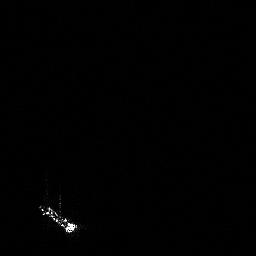ship: (36, 202, 80, 236)
